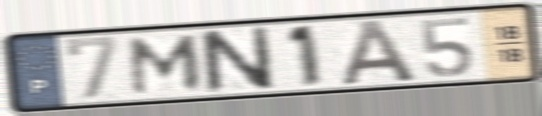1: (285, 23, 325, 89)
5: (417, 14, 475, 79)
7: (60, 33, 127, 104)
A: (337, 17, 421, 88)
M: (128, 33, 206, 97)
N: (194, 24, 278, 97)
